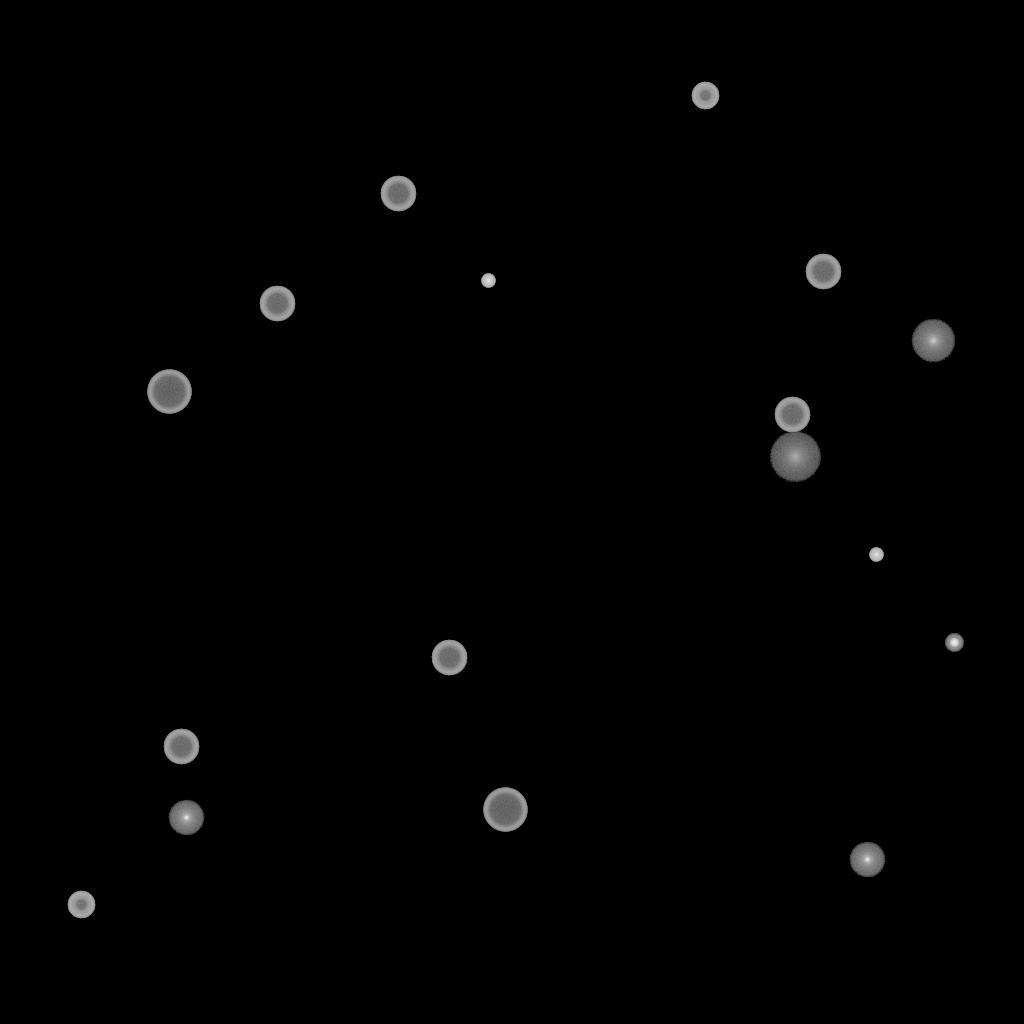depth:-20: (945, 634, 963, 652)
depth:-30: (481, 274, 495, 288), (869, 548, 883, 562)
depth:-50: (691, 82, 719, 110), (67, 891, 95, 919)
depth:-60: (431, 640, 467, 676), (259, 286, 295, 322), (805, 254, 841, 290), (380, 176, 416, 212), (163, 729, 199, 765), (774, 397, 810, 433)
depth:-70: (147, 370, 191, 414), (483, 788, 527, 832)
depth:0: (168, 800, 204, 836), (849, 842, 885, 878)
depth:10: (911, 319, 955, 363)
depth:20: (769, 432, 821, 482)
